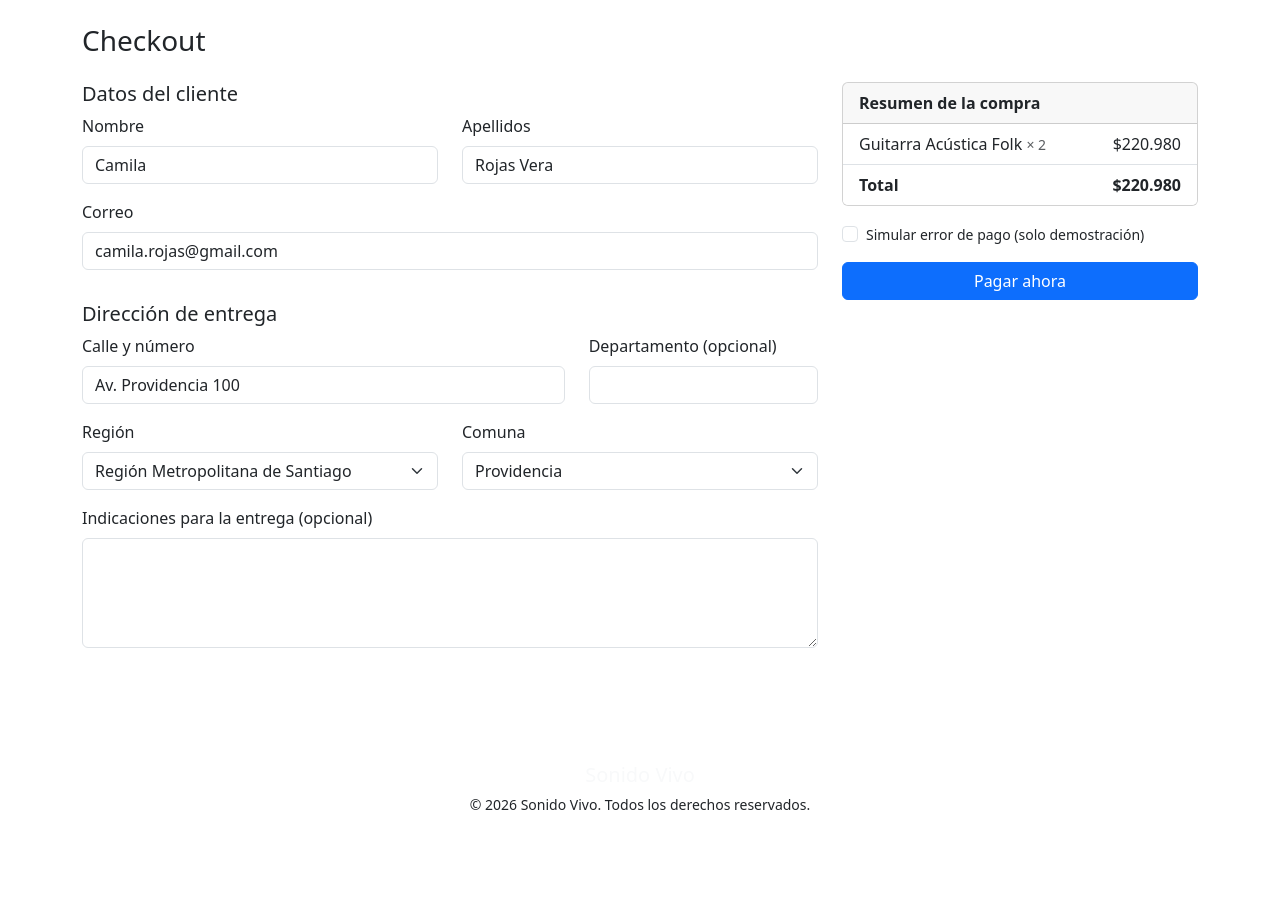
Flujo de pago (POST /boletas) › pago exitoso con sesión: crea la boleta asociada al cliente, descuenta stock y vacía el carrito
Click the button "Pagar ahora".
click(1020, 281)  # box [842,262,1198,300]
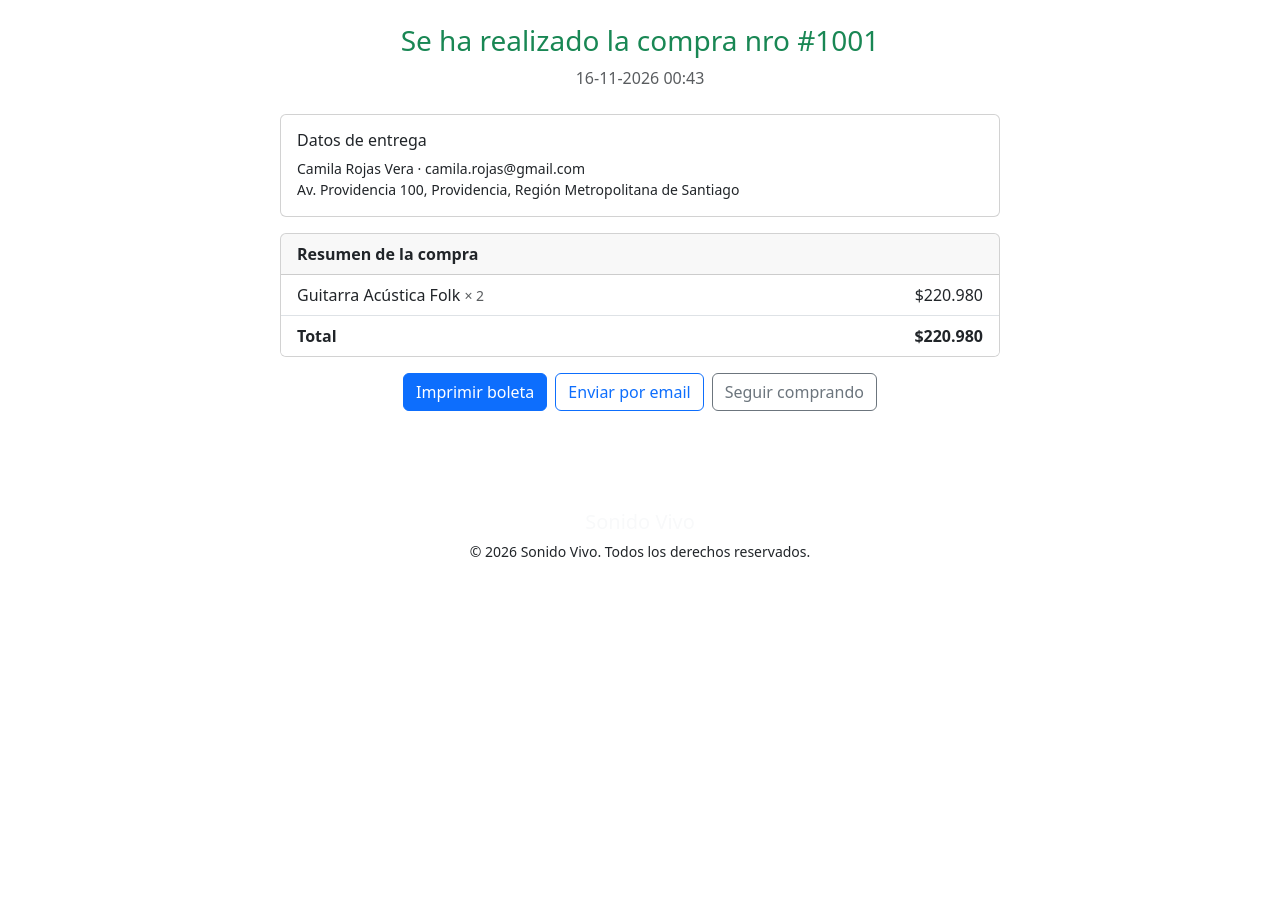
Now the heading "Se ha realizado la compra nro #1001" is shown, box [401,21,879,59]
